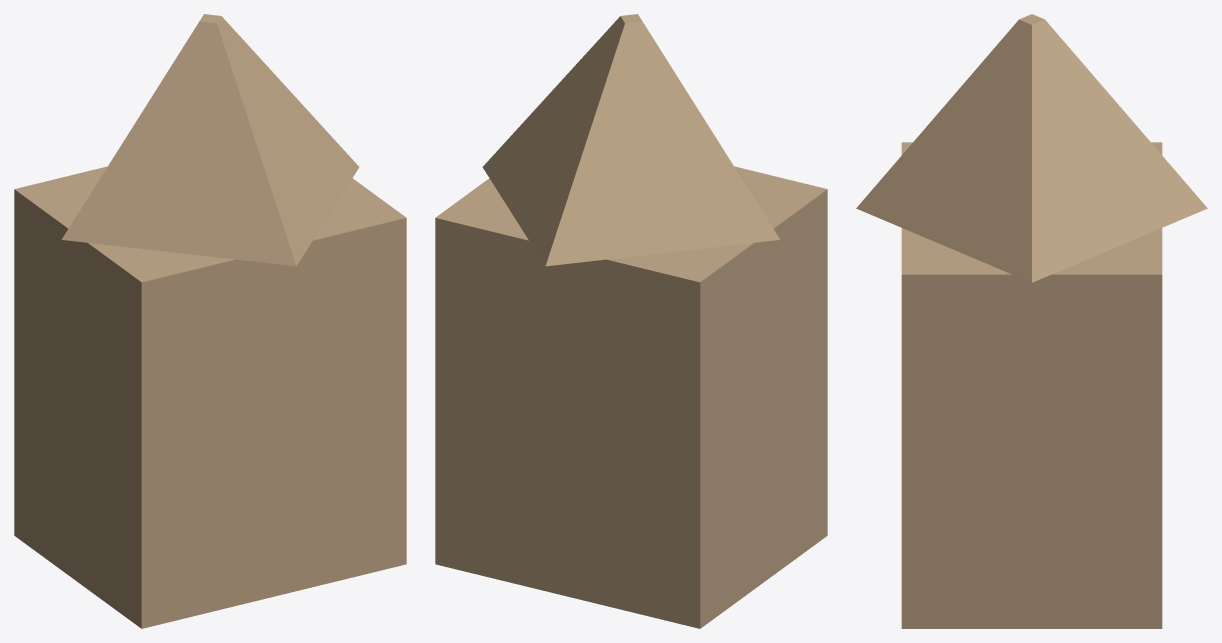
Rendered from Building_Hut.fbx.
3 renders of one model, left to right at view 1: azimuth 30°, elevation 25°; view 2: azimuth 150°, elevation 25°; view 3: azimuth 270°, elevation 25°, orthographic. The views are drawn at different scales.
Visible parts, largest first — view 1: Hut; view 2: Hut; view 3: Hut.
Boxes of the visible parts, x1=… form: Hut: x1=14, y1=14, x2=406, y2=628; Hut: x1=435, y1=14, x2=827, y2=628; Hut: x1=856, y1=14, x2=1207, y2=628.
Bounding box in the file's own units: 1.35 × 2.3 × 1.35.
